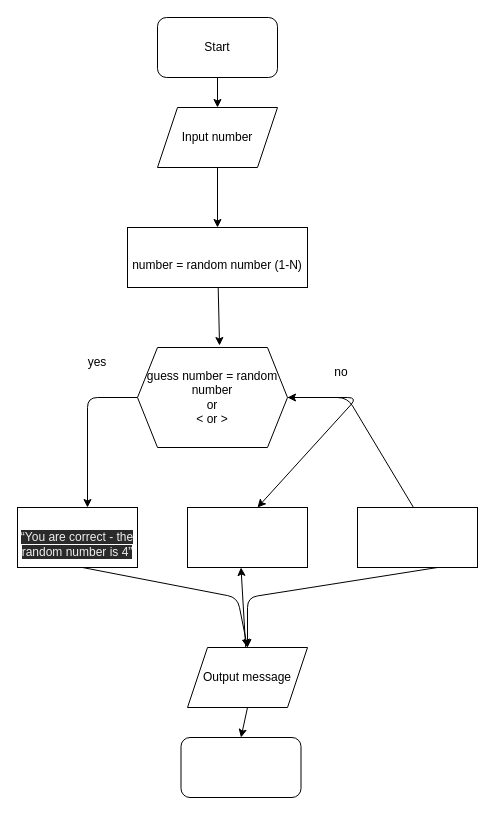
The diagram is 495 pixels wide and 815 high, and some of its shapes have lost their labels. Here are the shapes that lost their labels. From the top down, the centre of each, then its label:
(247,537): “My number is higher than 4, guess again higher!”
(417,537): “My number is lower than 4, guess again lower!”
(240,767): End
